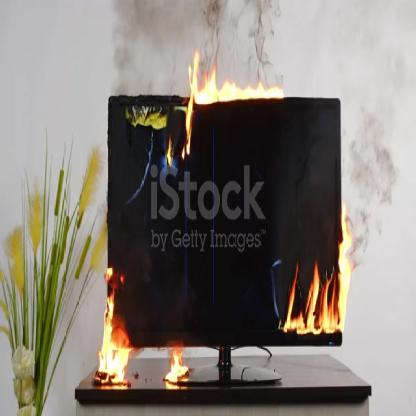fire: (167, 53, 282, 174), (275, 222, 353, 345), (96, 273, 135, 386), (165, 335, 200, 391)
smoke: (108, 0, 293, 97), (347, 72, 402, 252)
